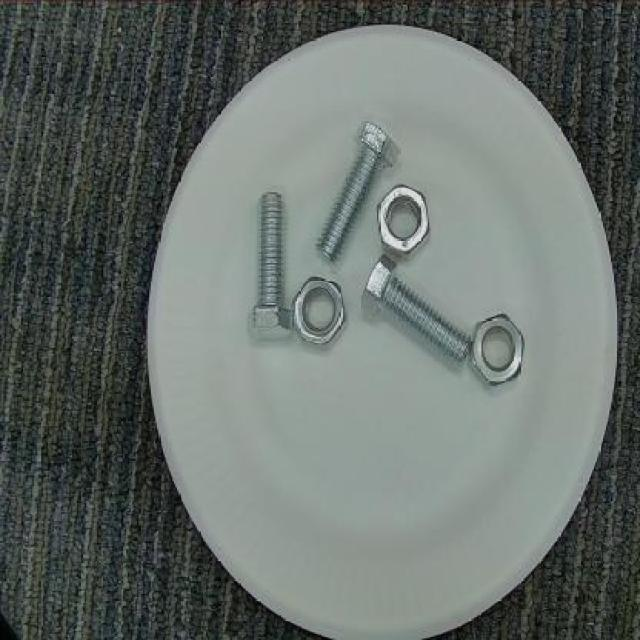Bolt: (363, 256, 476, 366), (313, 118, 397, 264), (247, 185, 294, 342)
Nut: (291, 276, 353, 350), (376, 183, 436, 257), (473, 312, 528, 391)
